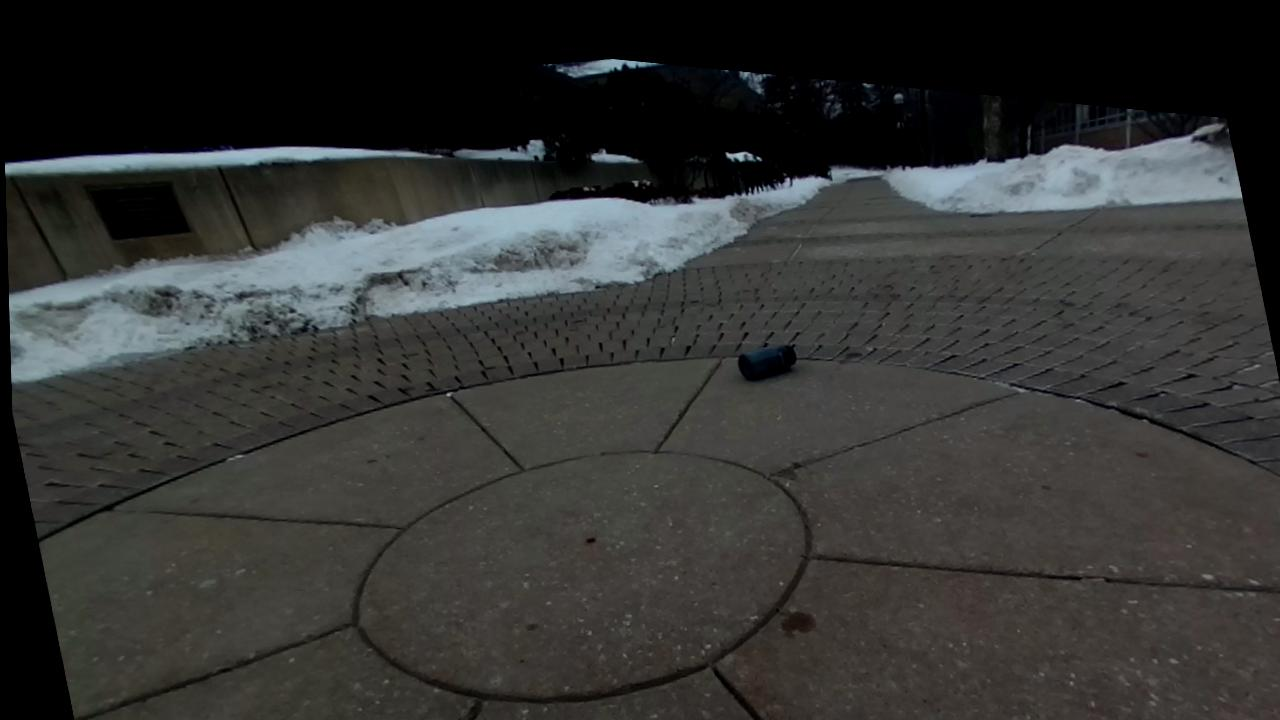bottle: (737, 344, 796, 379)
